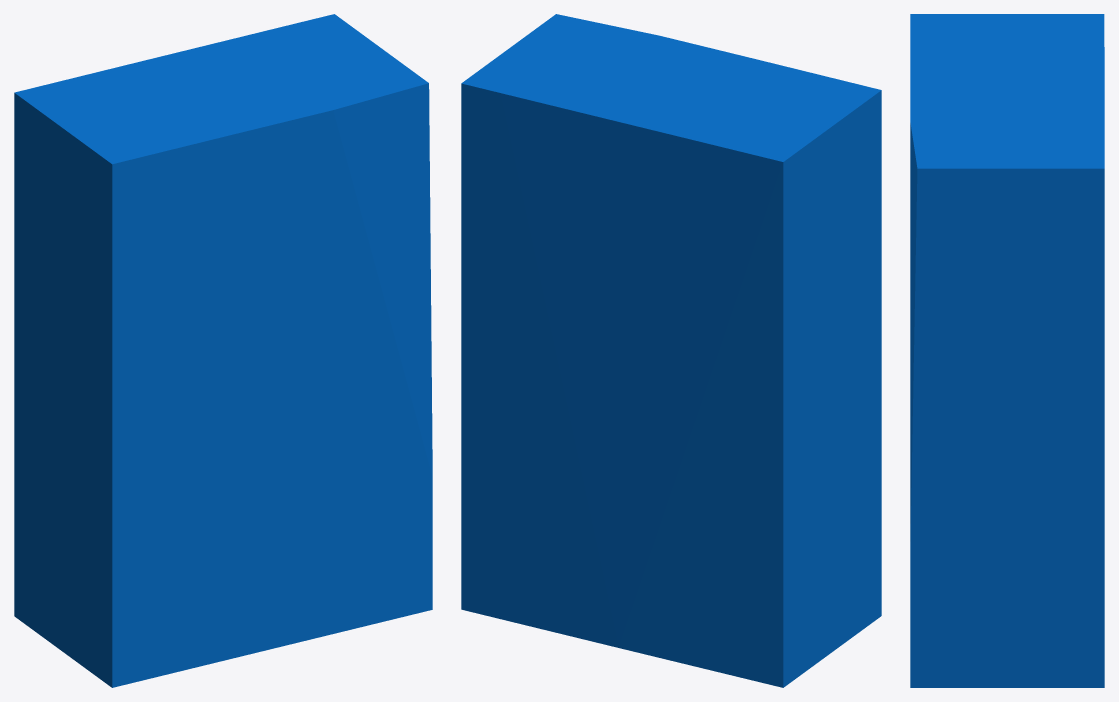
The picture shows the model from 3 angles, left to right: view 1: azimuth 30°, elevation 25°; view 2: azimuth 150°, elevation 25°; view 3: azimuth 270°, elevation 25°; orthographic projection.
Size of the model in its own units: 0.9789 by 1.53 by 0.5193.
